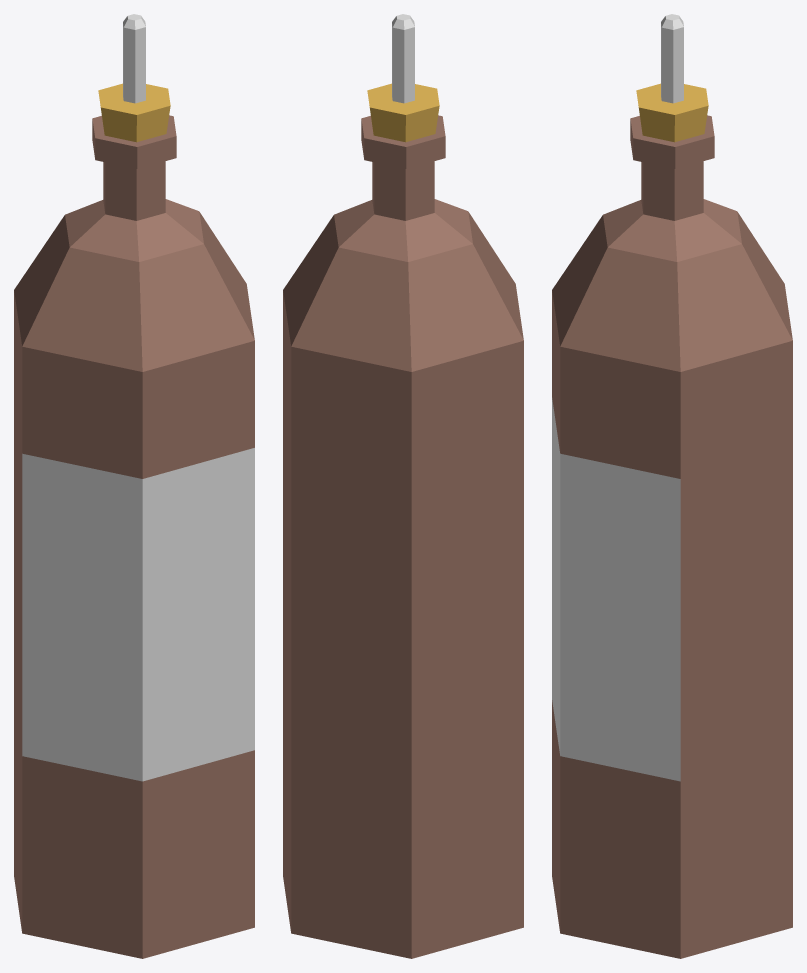
File: Bottle.fbx
3 views of the same model, side by side, from view 1: azimuth 30°, elevation 25°; view 2: azimuth 150°, elevation 25°; view 3: azimuth 270°, elevation 25° (orthographic).
Visible parts, largest first — view 1: Bottle; view 2: Bottle; view 3: Bottle.
Boxes of the visible parts, <box> form: Bottle: <box>14,14,254,958</box>; Bottle: <box>283,14,523,958</box>; Bottle: <box>552,14,792,958</box>.
Size of the model in its own units: 11.98 by 43.54 by 10.74.
